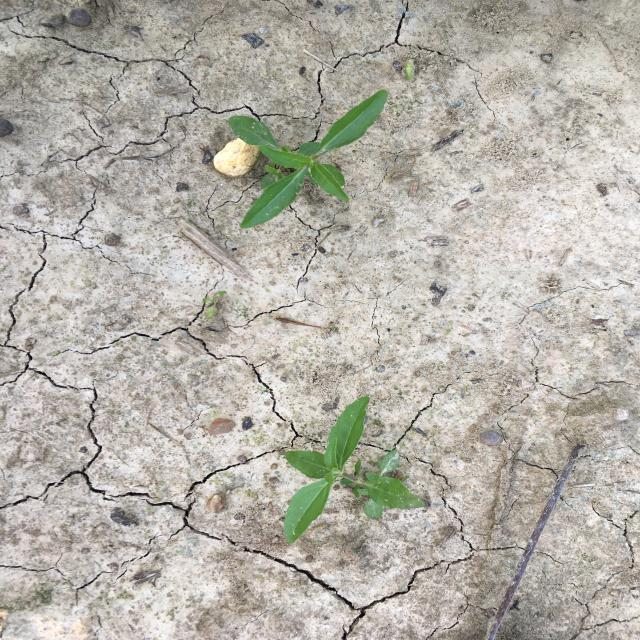Eclipta: (226, 89, 391, 230), (281, 394, 428, 544)
